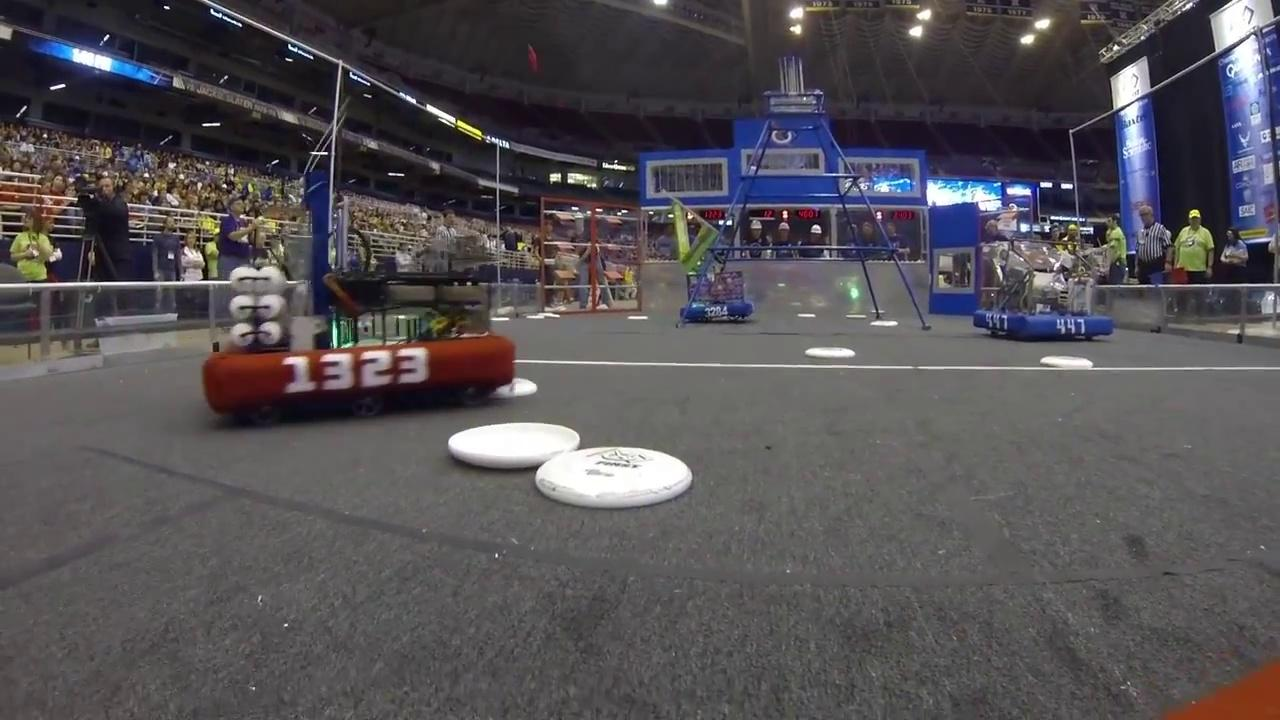robot: (203, 167, 520, 422), (966, 220, 1116, 343), (654, 181, 756, 323)
